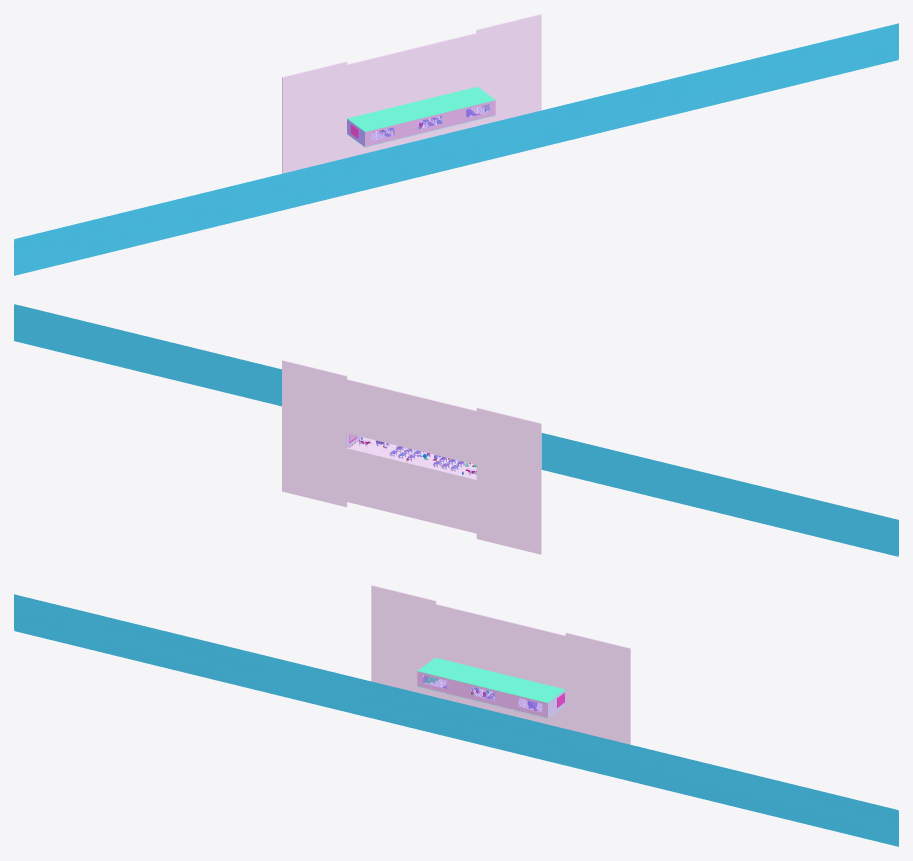
The model's file is classroom.glb.
3 views of the same model, one above another, from view 1: azimuth 30°, elevation 25°; view 2: azimuth 150°, elevation 25°; view 3: azimuth 330°, elevation 25° (orthographic).
Visible parts, largest first — view 1: fixed-sky, blocker, blocker.002, blocker.003, fixed-ceil, fixed-wall-far, blocker.001; view 2: fixed-sky, blocker.002, blocker.003, blocker, blocker.001, fixed-floor; view 3: fixed-sky, blocker, blocker.003, blocker.002, fixed-ceil, fixed-wall-far, blocker.001, fixed-floor.
Boxes of the visible parts, box(x1,y1,x2,y2) form: fixed-sky: box(14, 23, 898, 275); blocker: box(347, 33, 477, 118); blocker.002: box(282, 61, 347, 173); blocker.003: box(476, 14, 541, 125); fixed-ceil: box(347, 86, 495, 131); fixed-wall-far: box(365, 100, 495, 146); blocker.001: box(347, 120, 477, 157); fixed-sky: box(14, 304, 898, 556); blocker.002: box(476, 407, 541, 554); blocker.003: box(282, 360, 347, 507); blocker: box(346, 379, 476, 464); blocker.001: box(346, 448, 476, 533); fixed-floor: box(347, 437, 476, 479); fixed-sky: box(14, 594, 898, 846); blocker: box(435, 604, 565, 689); blocker.003: box(565, 632, 630, 744); blocker.002: box(371, 585, 436, 696); fixed-ceil: box(417, 657, 565, 702); fixed-wall-far: box(417, 671, 547, 717); blocker.001: box(435, 691, 565, 728); fixed-floor: box(417, 679, 565, 718).
Size of the model in its own units: 271 by 38.31 by 23.91.
Materials: 1 (1 with a texture image).
